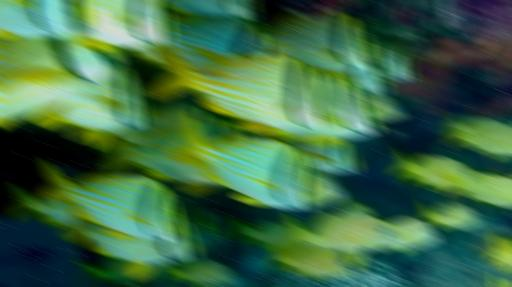Fish: (0, 0, 415, 279), (274, 201, 480, 268), (389, 149, 512, 209), (443, 115, 512, 159), (484, 233, 512, 272)
